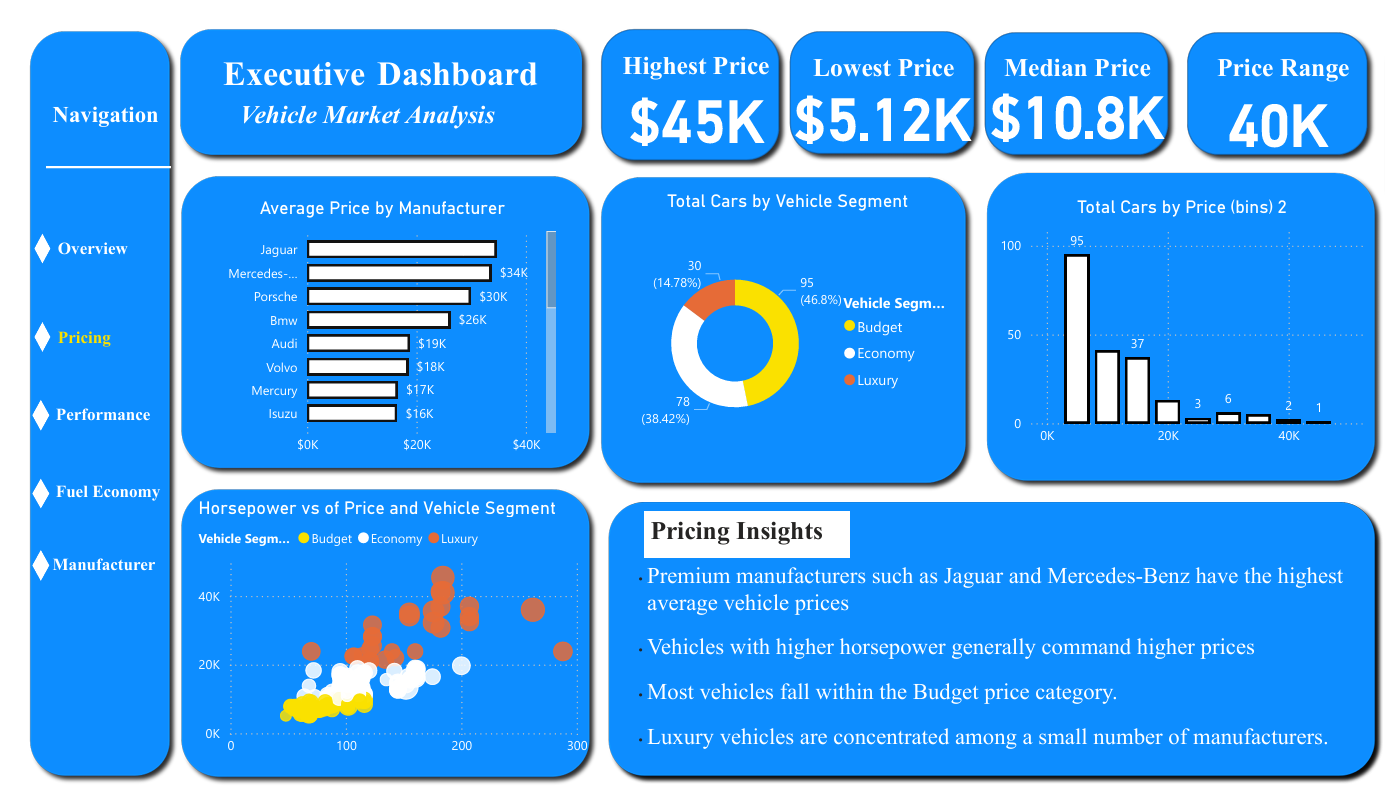

Layout of this report page (visuals, bound fields, positions):
{"tool":"powerbi","page":{"name":"Pricing Analysis ","canvas":[1280,720],"ordinal":1},"visuals":[{"type":"shape","box":[141.7,431.7,401.7,288.3],"z":0},{"type":"shape","box":[898,134.8,382.4,307.2],"z":1000},{"type":"shape","box":[141.1,0,394.9,136.3],"z":2000},{"type":"shape","box":[1086.1,3.1,186.5,133.2],"z":3000},{"type":"shape","box":[896.5,3.1,189.6,133.2],"z":4000},{"type":"shape","box":[713.1,1.6,191.2,133.2],"z":5000},{"type":"shape","box":[536,0,184.9,141.1],"z":6000},{"type":"card","fields":{"Values":["Measures (2).Highest Price"]},"box":[548.3,40.9,172.8,94.8],"z":7000},{"type":"shape","box":[0,1.6,148.9,717.8],"z":8000},{"type":"textbox","box":[548.5,25.1,170.8,51.7],"z":9000},{"type":"card","fields":{"Values":["Measures (2).Lowest Price"]},"box":[719.4,42.3,178.7,90.9],"z":10000},{"type":"textbox","box":[724.1,26.6,172.4,64.3],"z":11000},{"type":"textbox","box":[898,26.6,188.1,64.3],"z":12000},{"type":"card","fields":{"Values":["Measures (2).Median Price"]},"box":[895.8,33.5,191.4,104.1],"z":13000},{"type":"card","fields":{"Values":["Measures (2).Price Range"]},"box":[1106.5,40.7,147.3,103.4],"z":14000},{"type":"textbox","box":[1114.3,26.6,147.3,62.7],"z":15000},{"type":"shape","box":[543.8,443.5,736.6,275.8],"z":16000},{"type":"shape","box":[536,139.5,360.5,304],"z":17000},{"type":"textbox","box":[126.9,26.6,421.6,84.6],"z":18000},{"type":"textbox","box":[200.6,70.5,299.3,45.4],"z":19000},{"type":"shape","box":[24.2,76.2,117.1,124.5],"z":20000},{"type":"textbox","box":[24.2,72.5,117.1,48.3],"z":21000},{"type":"shape","box":[12.5,200.6,15.7,28.2],"z":22000},{"type":"shape","box":[12.5,283.7,15.7,28.2],"z":23000},{"type":"textbox","box":[29.8,200.6,108.1,42.3],"z":24000},{"type":"textbox","box":[29.8,285.2,97.2,51.7],"z":25000},{"type":"shape","box":[11,357.3,15.7,28.2],"z":26000},{"type":"textbox","box":[28.2,357.3,133.2,34.5],"z":27000},{"type":"shape","box":[11,431,15.7,28.2],"z":28000},{"type":"textbox","box":[28.2,429.4,148.9,37.6],"z":29000},{"type":"textbox","box":[25,498.3,116.7,28.3],"z":30000},{"type":"shape","box":[11,498.4,15.7,28.2],"z":31000},{"type":"shape","box":[141.7,138.3,401.7,291.7],"z":32000},{"type":"donutChart","fields":{"Y":["Measures (2).Total Cars"],"Category":["Cars.Vehicle Segment"]},"box":[564.2,159.9,311.9,269.6],"z":33000},{"type":"clusteredColumnChart","fields":{"Category":["Cars.Price (bins) 2"],"Y":["Measures (2).Total Cars"]},"box":[913.7,166.1,352.6,242.9],"z":34000},{"type":"shape","box":[543.4,443.5,736.6,275.8],"z":35000},{"type":"clusteredBarChart","fields":{"Category":["Cars.Manufacturer"],"Y":["Measures (2).Average Price"]},"box":[171.7,166.7,335,250],"z":36000},{"type":"textbox","box":[565,505,688.3,190],"z":37000},{"type":"textbox","box":[586.1,462.3,192.8,43.9],"z":38000},{"type":"scatterChart","title":"Horsepower vs of Price and Vehicle Segment","fields":{"X":["Cars.Horsepower"],"Y":["Cars.Price"],"Size":["Sum(Cars.Engine Size)"],"Series":["Cars.Vehicle Segment"]},"box":[161.7,448.3,375,251.7],"z":39000}]}

Visuals, with their boxes on the page's 1280x720 design canvas (x1, y1, x2, y2). These are canvas units, not pixel positions in the 1397x811 screenshot, which may show the page scaled, cropped or inside an application window:
shape: <bbox>142, 432, 543, 720</bbox>
shape: <bbox>898, 135, 1280, 442</bbox>
shape: <bbox>141, 0, 536, 136</bbox>
shape: <bbox>1086, 3, 1273, 136</bbox>
shape: <bbox>896, 3, 1086, 136</bbox>
shape: <bbox>713, 2, 904, 135</bbox>
shape: <bbox>536, 0, 721, 141</bbox>
card - Measures (2).Highest Price: <bbox>548, 41, 721, 136</bbox>
shape: <bbox>0, 2, 149, 719</bbox>
textbox: <bbox>548, 25, 719, 77</bbox>
card - Measures (2).Lowest Price: <bbox>719, 42, 898, 133</bbox>
textbox: <bbox>724, 27, 896, 91</bbox>
textbox: <bbox>898, 27, 1086, 91</bbox>
card - Measures (2).Median Price: <bbox>896, 34, 1087, 138</bbox>
card - Measures (2).Price Range: <bbox>1106, 41, 1254, 144</bbox>
textbox: <bbox>1114, 27, 1262, 89</bbox>
shape: <bbox>544, 444, 1280, 719</bbox>
shape: <bbox>536, 140, 896, 444</bbox>
textbox: <bbox>127, 27, 548, 111</bbox>
textbox: <bbox>201, 70, 500, 116</bbox>
shape: <bbox>24, 76, 141, 201</bbox>
textbox: <bbox>24, 72, 141, 121</bbox>
shape: <bbox>12, 201, 28, 229</bbox>
shape: <bbox>12, 284, 28, 312</bbox>
textbox: <bbox>30, 201, 138, 243</bbox>
textbox: <bbox>30, 285, 127, 337</bbox>
shape: <bbox>11, 357, 27, 386</bbox>
textbox: <bbox>28, 357, 161, 392</bbox>
shape: <bbox>11, 431, 27, 459</bbox>
textbox: <bbox>28, 429, 177, 467</bbox>
textbox: <bbox>25, 498, 142, 527</bbox>
shape: <bbox>11, 498, 27, 527</bbox>
shape: <bbox>142, 138, 543, 430</bbox>
donutChart - Measures (2).Total Cars x Cars.Vehicle Segment: <bbox>564, 160, 876, 430</bbox>
clusteredColumnChart - Cars.Price (bins) 2 x Measures (2).Total Cars: <bbox>914, 166, 1266, 409</bbox>
shape: <bbox>543, 444, 1280, 719</bbox>
clusteredBarChart - Cars.Manufacturer x Measures (2).Average Price: <bbox>172, 167, 507, 417</bbox>
textbox: <bbox>565, 505, 1253, 695</bbox>
textbox: <bbox>586, 462, 779, 506</bbox>
"Horsepower vs of Price and Vehicle Segment" scatterChart: <bbox>162, 448, 537, 700</bbox>
